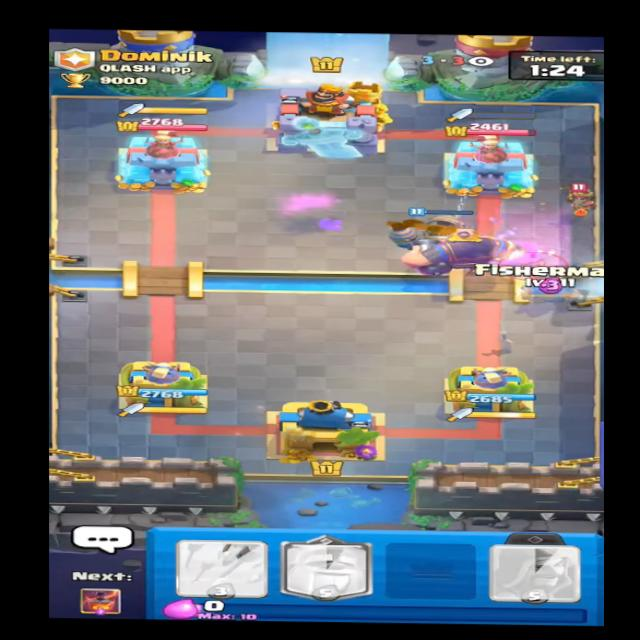little-prince: (561, 182, 601, 218)
